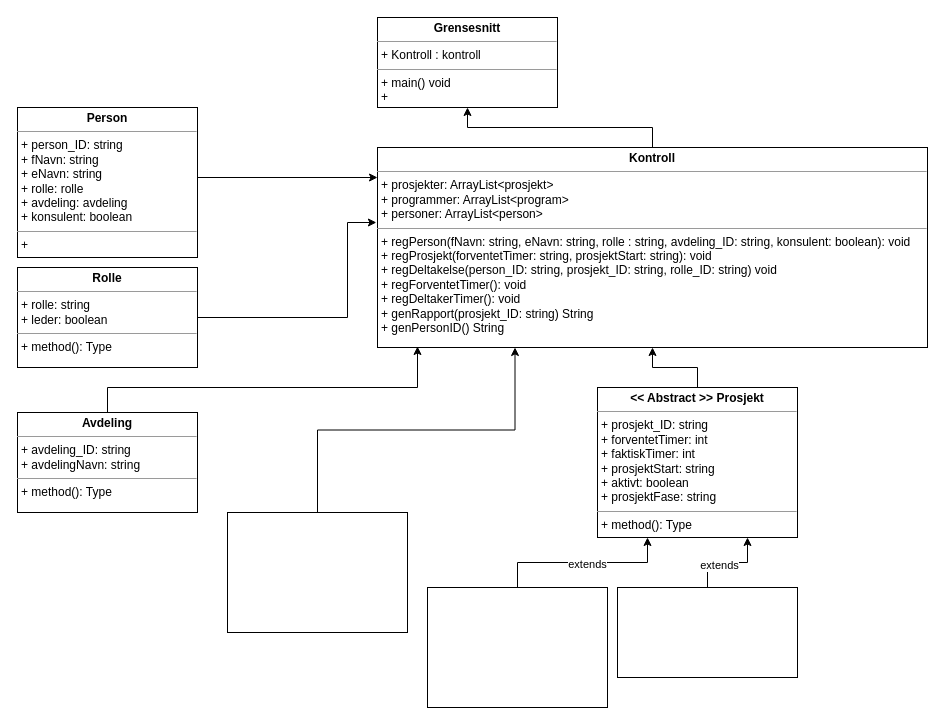
The diagram is 945 pixels wide and 725 high, and some of its shapes have lost their labels. The shapes that lost their labels are listed below. From the top down, each one's centre as x and y in pixels, then its label:
At point (317, 572): "Program + program_ID: string + programNavn: string + method(): Type".
At point (517, 647): "Nyutvinningsprosjekt + prosjektNavn: string + method(): Type".
At point (707, 632): "Vedlikeholdsprosjekt + program_ID: string + method(): Type".
